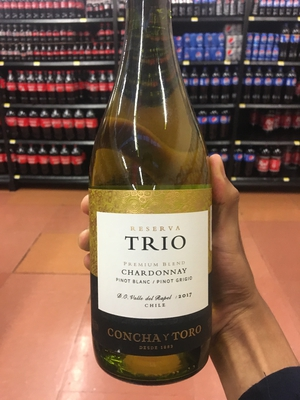trio chardonnay: (80, 23, 238, 400)
